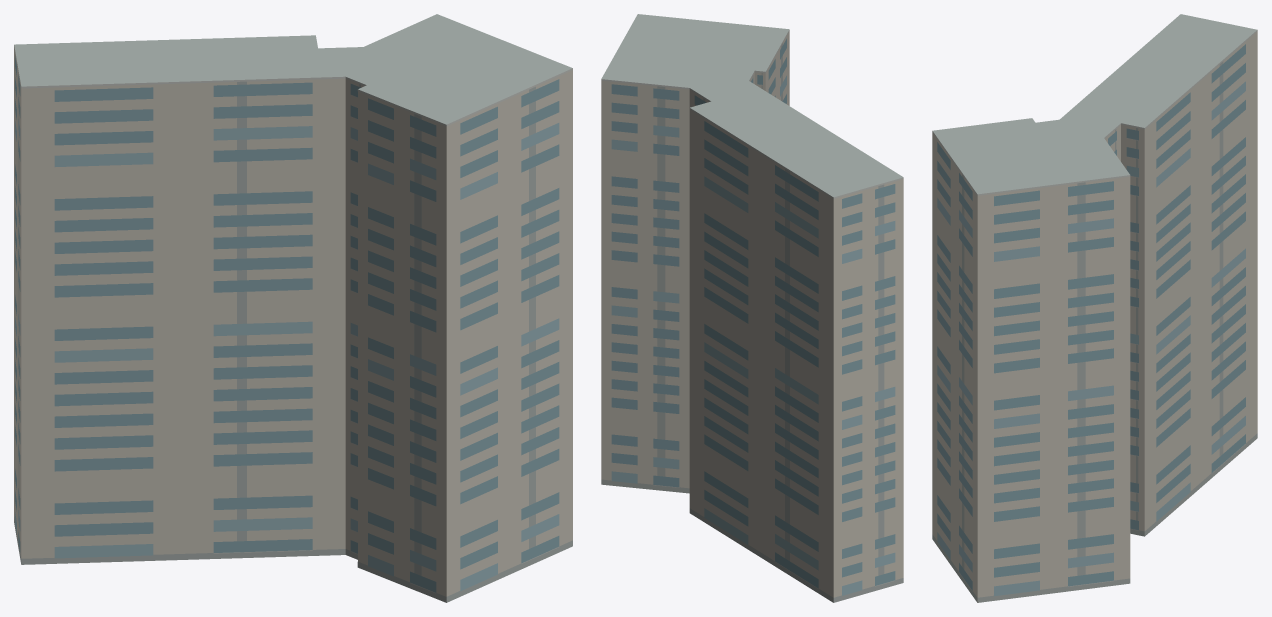
File: residential-22fec6ef-aeed-4f50-a266-96a4e211d004.glb
The picture shows the model from 3 angles, left to right: view 1: azimuth 30°, elevation 25°; view 2: azimuth 150°, elevation 25°; view 3: azimuth 270°, elevation 25°; orthographic projection. The views are drawn at different scales.
Visible parts, largest first — view 1: residential-22fec6ef-aeed-4f50-a266-96a4e211d004.tmp; view 2: residential-22fec6ef-aeed-4f50-a266-96a4e211d004.tmp; view 3: residential-22fec6ef-aeed-4f50-a266-96a4e211d004.tmp.
Boxes of the visible parts, bbox=[...] form: residential-22fec6ef-aeed-4f50-a266-96a4e211d004.tmp: bbox=[14, 14, 572, 602]; residential-22fec6ef-aeed-4f50-a266-96a4e211d004.tmp: bbox=[601, 14, 903, 602]; residential-22fec6ef-aeed-4f50-a266-96a4e211d004.tmp: bbox=[932, 14, 1257, 602].
Size of the model in its own units: 59.65 by 63 by 45.44.
